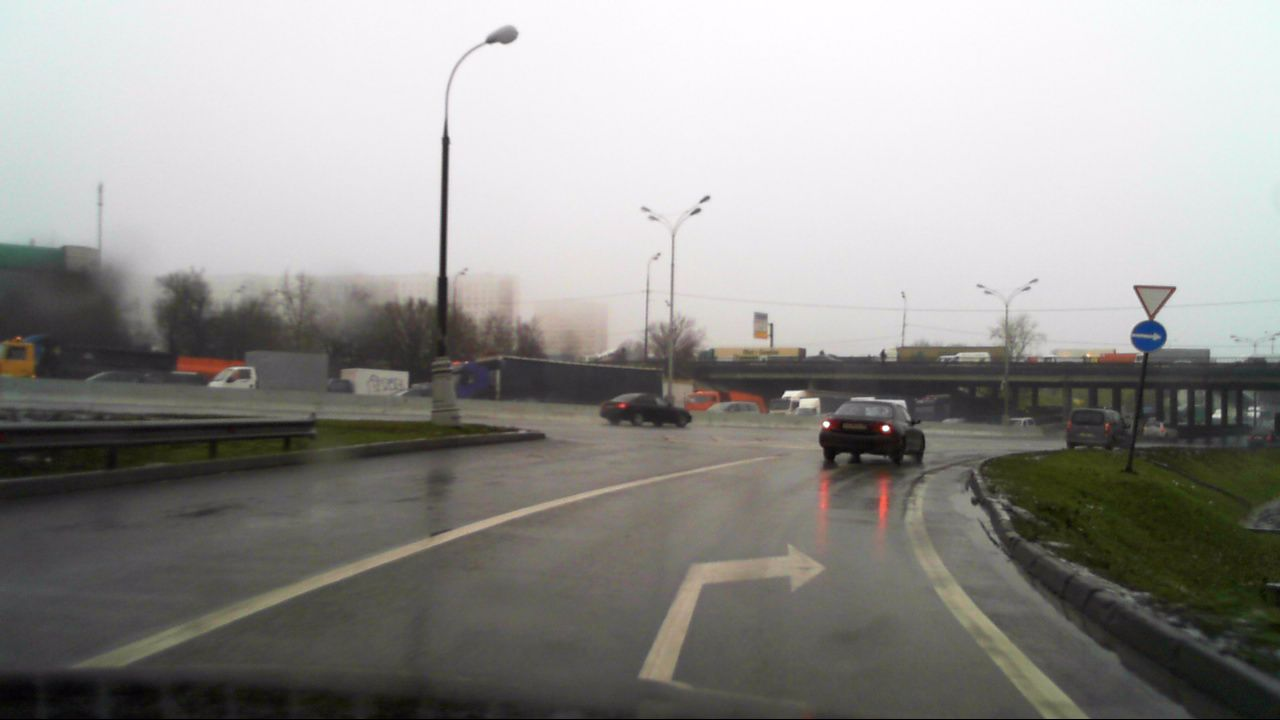Turn Right: (1131, 320, 1167, 352)
